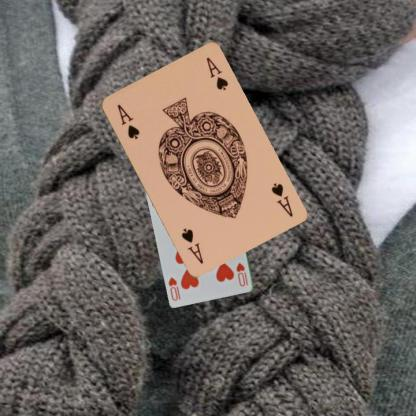10h: (234, 260, 249, 288)
As: (114, 101, 140, 141), (268, 180, 294, 218)
